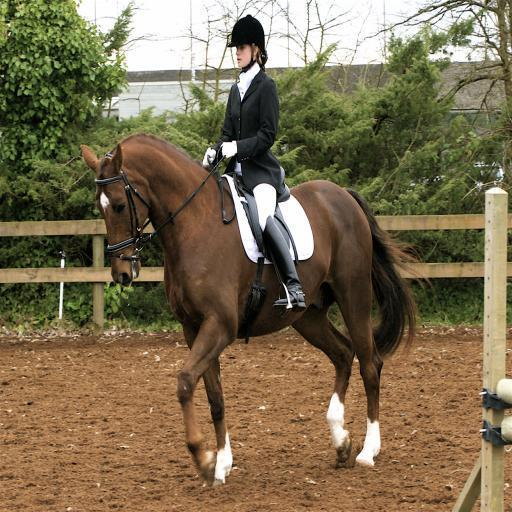horse: (79, 133, 435, 488)
